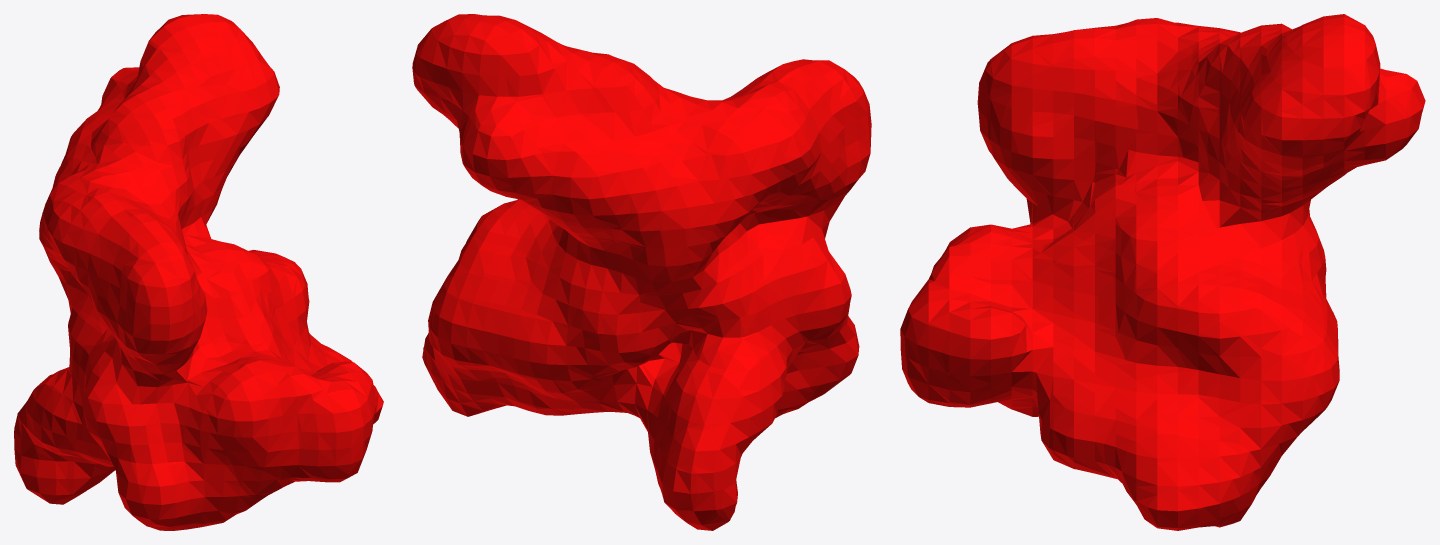
Rendered from prfB_coarse.dae.
3 renders of one model, left to right at view 1: azimuth 30°, elevation 25°; view 2: azimuth 150°, elevation 25°; view 3: azimuth 270°, elevation 25°, orthographic. The views are drawn at different scales.
Parts seen in each view (by area): view 1: prfB; view 2: prfB; view 3: prfB.
Boxes of the visible parts, x1=… form: prfB: x1=14, y1=14, x2=383, y2=530; prfB: x1=412, y1=14, x2=871, y2=530; prfB: x1=900, y1=14, x2=1425, y2=530.
Size of the model in its own units: 58.15 by 71.95 by 68.47.
